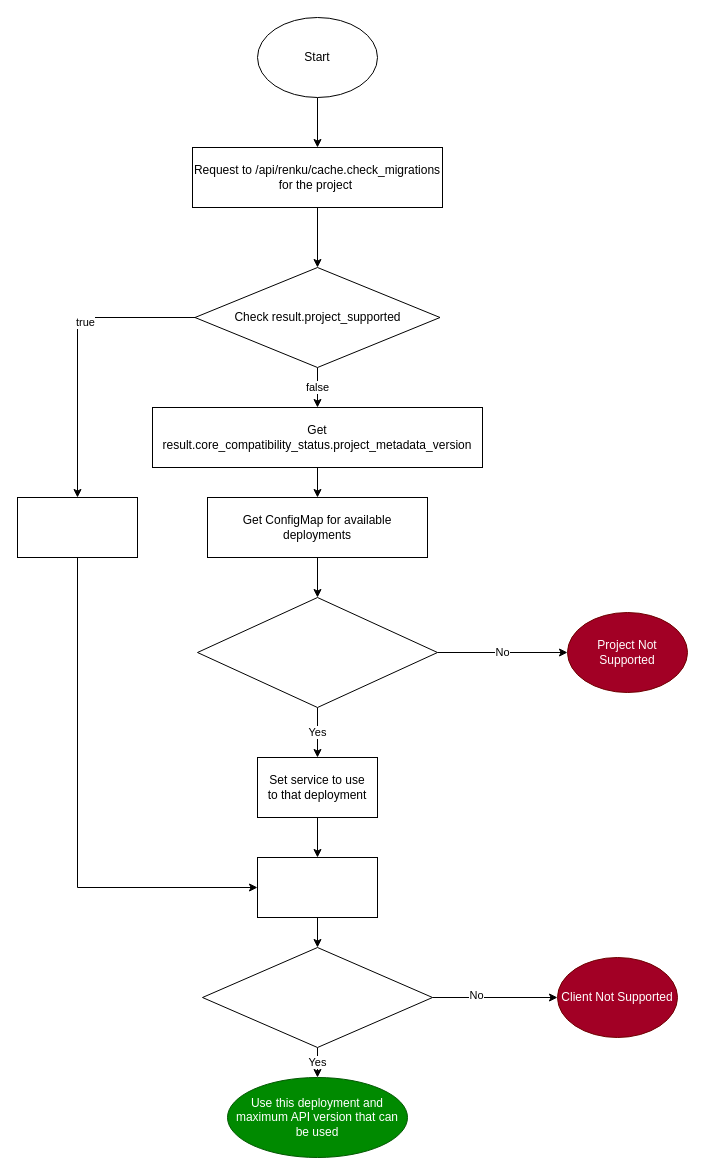
Image size: 705x1175. Some labels were removed from this diagram. Here are the shapes that lost their labels. From the top down, the centre of each, then its label:
At (77,527): "Use current deployment".
At (317,652): "Is project_metadata_version in available deployments?".
At (317,887): "Query /version endpoint on selected deployment".
At (317,997): "Is supported version of client within minimum/maximum API version?".
